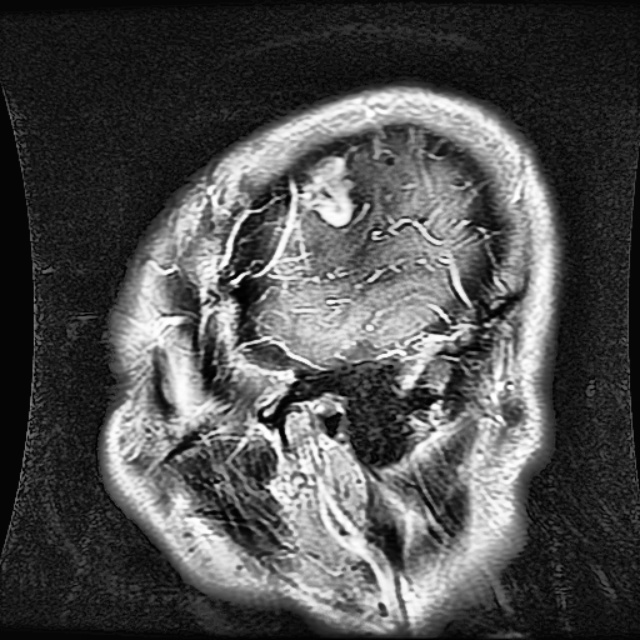Meningioma: (293, 154, 350, 224)
